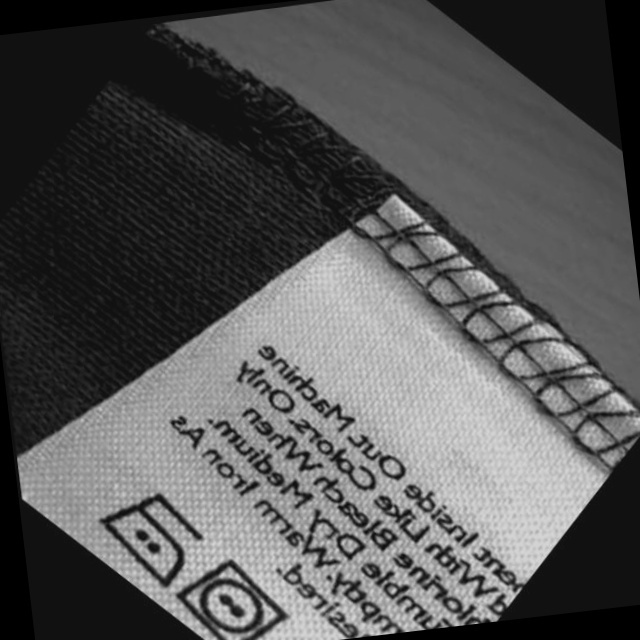iron_medium: (90, 488, 206, 592)
tumble_dry_medium: (170, 555, 289, 640)
